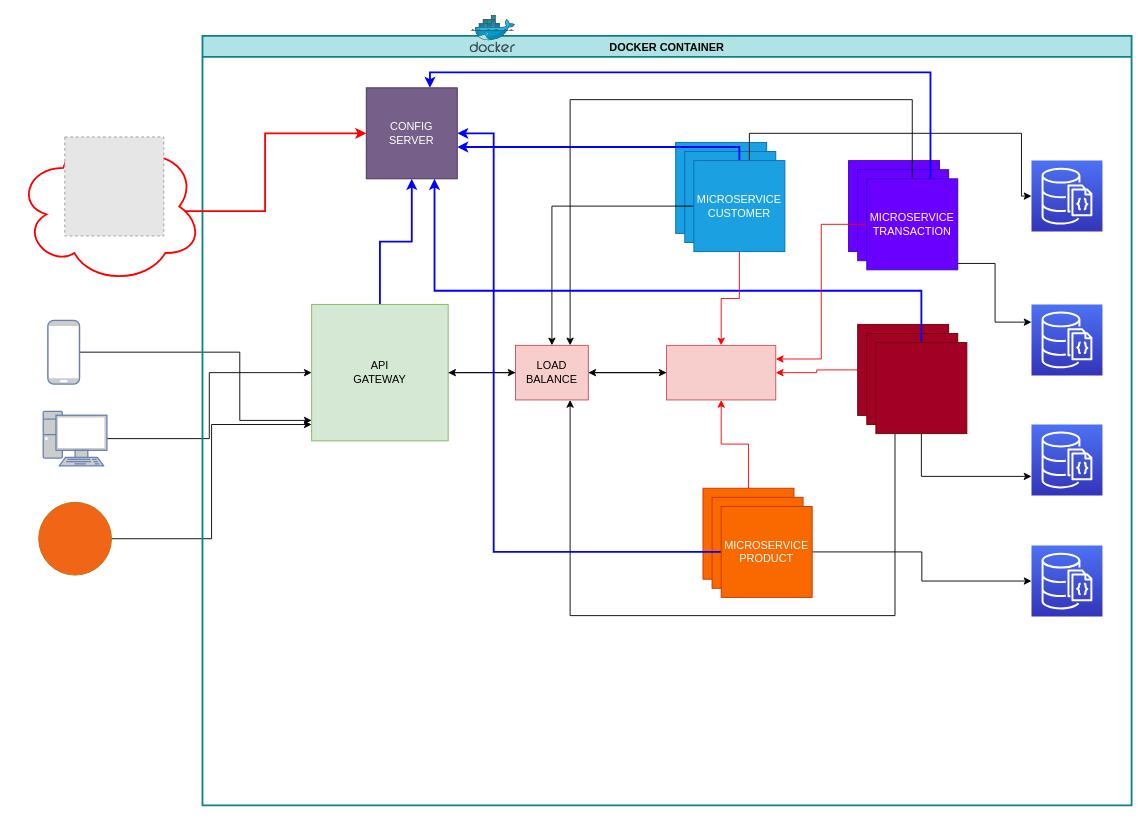
Image size: 1148x822. Some labels were removed from this diagram. Grey dashed boxes stand in for pictures. The box of each missing label's shape, as (x1, y1, x2, y2) in pixels:
CONFIG DATA: (15, 128, 203, 284)
MICROSERVICE CARD: (875, 342, 967, 434)
Postman: (38, 501, 111, 575)
SERVER REGISTRITY (EUREKA): (666, 344, 776, 400)
